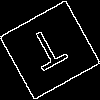T: (25, 25, 74, 81)
